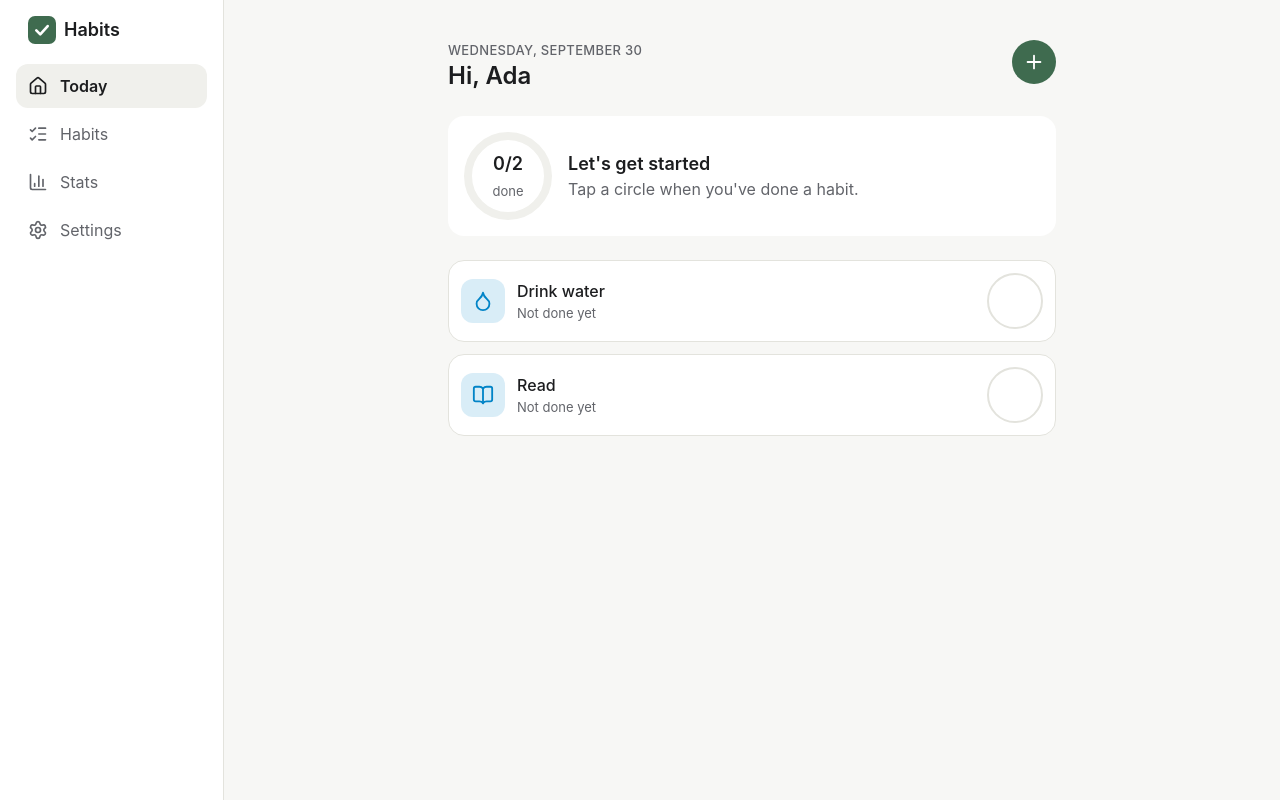
checking a habit off › puts it back and says so when saving fails
Click the button named "Mark Drink water done" at (1015, 301), box [987,273,1043,329]
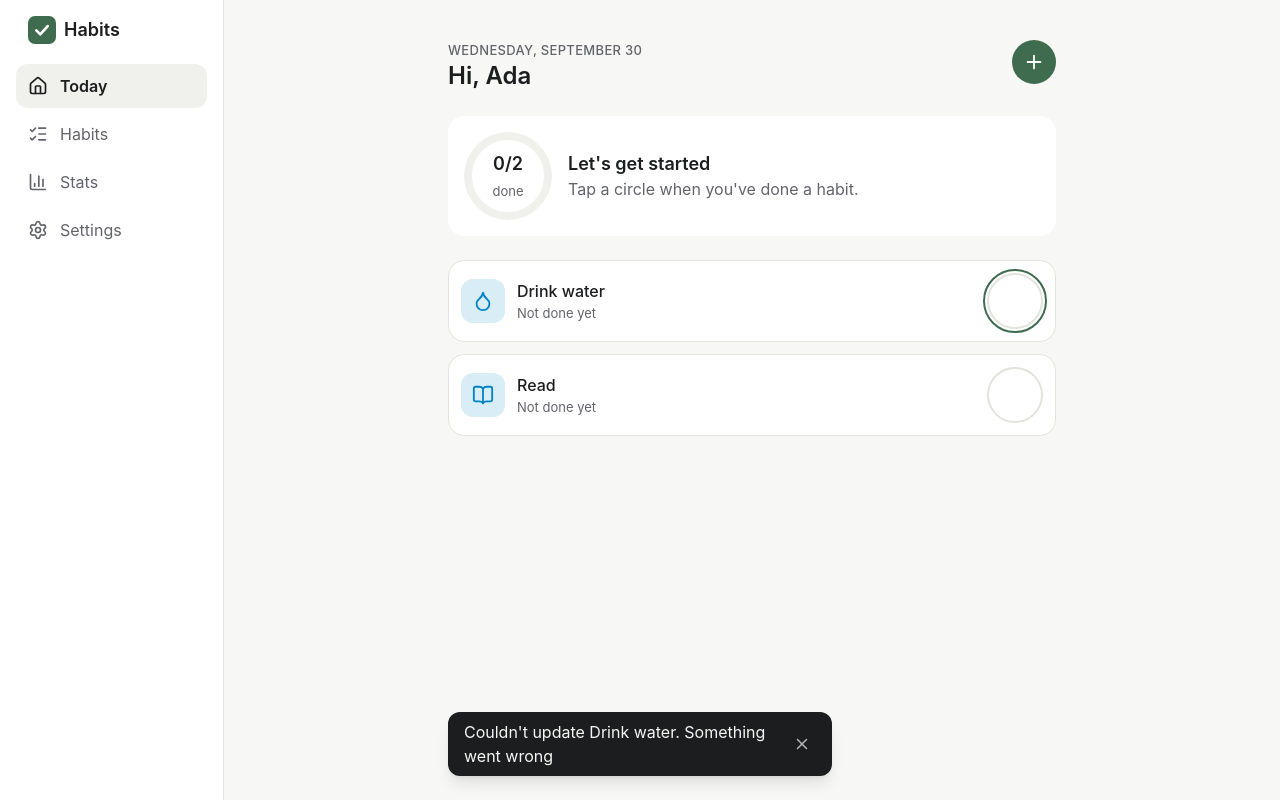
Expected: the text "Couldn't update Drink water. Something went wrong" is shown, [464,720,768,768]
